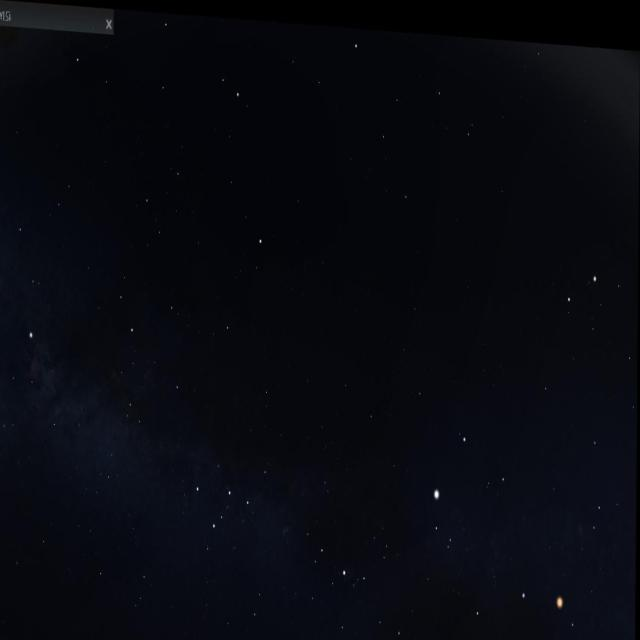cassiopeia: (180, 441, 268, 552)
